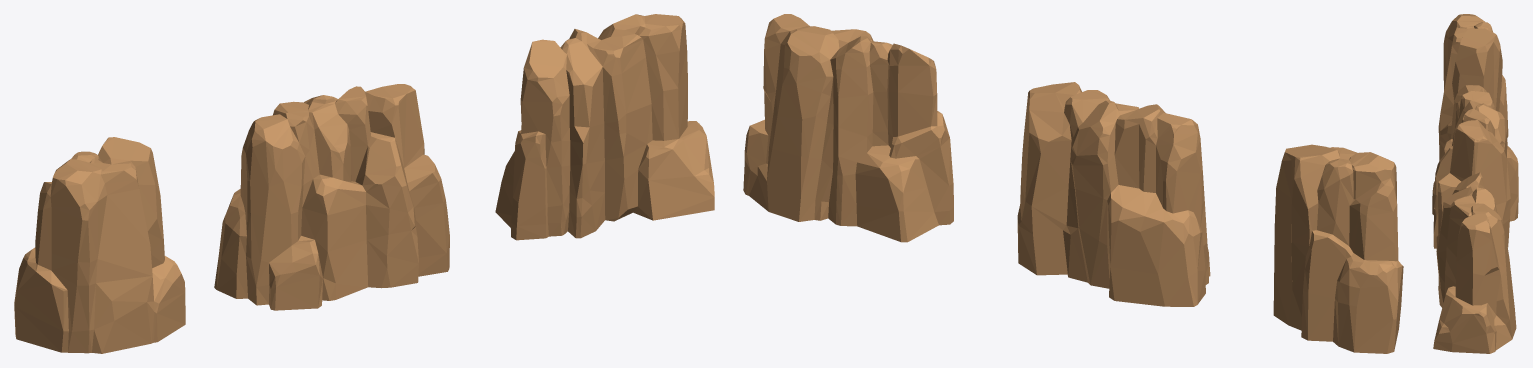
File: modular batu.fbx
3 renders of one model, left to right at view 1: azimuth 30°, elevation 25°; view 2: azimuth 150°, elevation 25°; view 3: azimuth 270°, elevation 25°, orthographic. The views are drawn at different scales.
Visible parts, largest first — view 1: modular batu.001, modular batu.002, modular batu; view 2: modular batu.002, modular batu.001, modular batu; view 3: modular batu.002, modular batu.001, modular batu.
Part boxes in pixels (x1=…): modular batu.001: x1=214, y1=84, x2=449, y2=310; modular batu.002: x1=495, y1=14, x2=714, y2=240; modular batu: x1=14, y1=137, x2=185, y2=353; modular batu.002: x1=743, y1=14, x2=953, y2=242; modular batu.001: x1=1017, y1=82, x2=1210, y2=306; modular batu: x1=1273, y1=144, x2=1403, y2=353; modular batu.002: x1=1433, y1=172, x2=1516, y2=353; modular batu.001: x1=1432, y1=85, x2=1518, y2=248; modular batu: x1=1438, y1=14, x2=1508, y2=158.
Bounding box in the file's own units: 1743 × 448 × 277.
